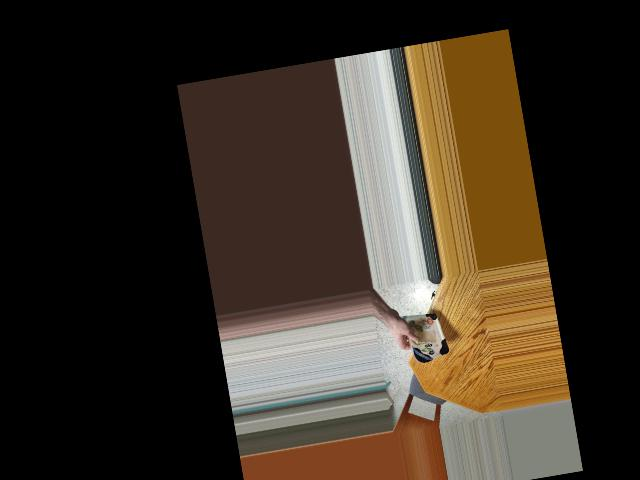cheese: (402, 299, 449, 366)
